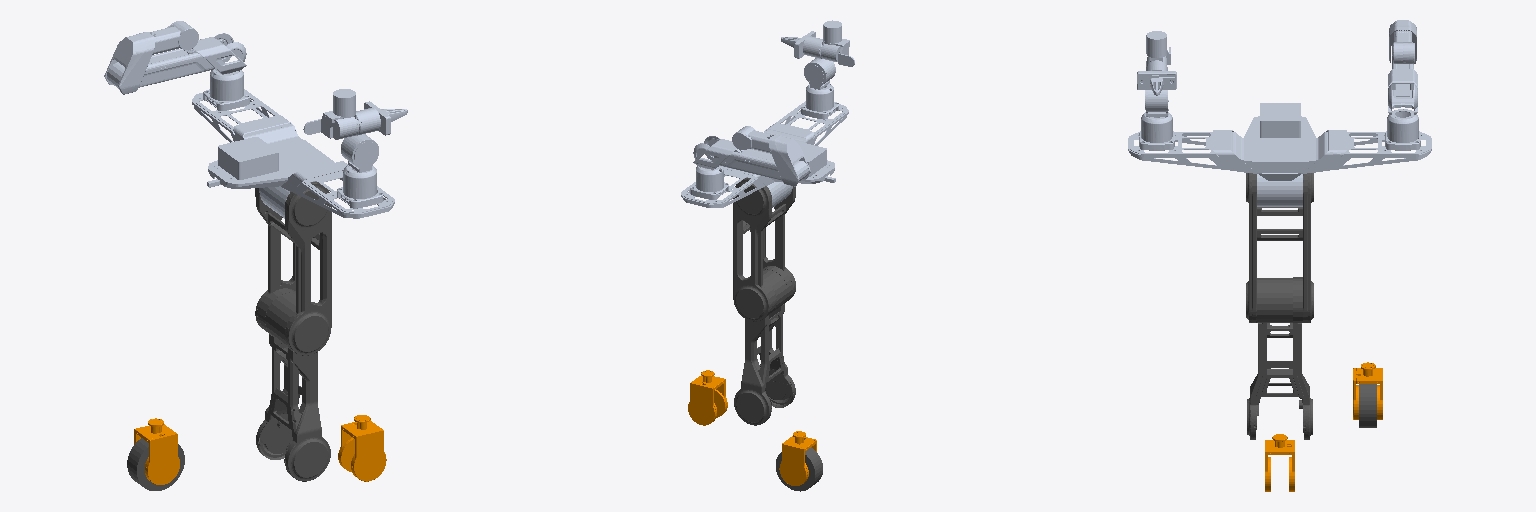
--- Render facts (derived) ---
Views: 3 orthographic renders of the robot side by side, from view 1: azimuth 30°, elevation 25°; view 2: azimuth 150°, elevation 25°; view 3: azimuth 270°, elevation 25°.
Model mmp_revB_invconfig_upright_a1x with 33 links and 32 joints (18 revolute, 4 continuous, 6 prismatic, 4 fixed), rooted at root, posed all joints at 0.
Links seen in each view (by area): view 1: torso_link3, torso_link1, torso_link2, left_arm_link2, left_arm_link3, steer_motor_link1, steer_motor_link2, right_arm_base_link, left_arm_base_link, right_arm_link4, wheel_motor_link2, right_arm_link1 (+1 smaller); view 2: torso_link1, torso_link2, torso_link3, left_arm_link2, left_arm_link3, steer_motor_link1, steer_motor_link2, left_arm_base_link, right_arm_base_link, right_arm_link4, wheel_motor_link2, right_arm_link1 (+1 smaller); view 3: torso_link3, torso_link1, torso_link2, left_arm_link2, left_arm_base_link, right_arm_base_link, left_arm_link3, steer_motor_link2, steer_motor_link1, wheel_motor_link2, right_gripper_link, right_arm_link4 (+1 smaller).
Link boxes in pixels (<box>): torso_link3: <box>192,89,394,218</box>; torso_link1: <box>256,288,330,481</box>; torso_link2: <box>255,182,331,355</box>; left_arm_link2: <box>107,33,246,88</box>; left_arm_link3: <box>104,21,198,94</box>; steer_motor_link1: <box>338,415,386,481</box>; steer_motor_link2: <box>134,418,179,484</box>; right_arm_base_link: <box>337,165,383,208</box>; left_arm_base_link: <box>203,69,249,110</box>; right_arm_link4: <box>303,89,355,138</box>; wheel_motor_link2: <box>127,438,184,490</box>; right_arm_link1: <box>341,134,378,172</box>; torso_link1: <box>734,266,795,425</box>; torso_link2: <box>733,178,795,321</box>; torso_link3: <box>681,101,848,207</box>; left_arm_link2: <box>693,136,808,180</box>; left_arm_link3: <box>732,126,810,186</box>; steer_motor_link1: <box>688,370,727,425</box>; steer_motor_link2: <box>779,431,816,485</box>; left_arm_base_link: <box>690,166,728,199</box>; right_arm_base_link: <box>801,83,838,119</box>; right_arm_link4: <box>823,20,854,66</box>; wheel_motor_link2: <box>776,447,822,491</box>; right_arm_link1: <box>804,58,835,89</box>; torso_link3: <box>1128,103,1431,206</box>; torso_link1: <box>1247,277,1312,439</box>; torso_link2: <box>1246,173,1313,322</box>; left_arm_link2: <box>1388,45,1417,114</box>; left_arm_base_link: <box>1385,109,1420,150</box>; right_arm_base_link: <box>1139,112,1174,150</box>; left_arm_link3: <box>1389,20,1416,63</box>; steer_motor_link2: <box>1353,362,1382,419</box>; steer_motor_link1: <box>1265,434,1294,491</box>; wheel_motor_link2: <box>1359,384,1376,427</box>; right_gripper_link: <box>1137,60,1176,89</box>; right_arm_link4: <box>1146,31,1170,64</box>.
Size in the robot's own frame: 1.16 by 1.65 by 2.55 metres.
Meshes: 30 distinct files referenced, 17 mesh visuals loaded (17 binary STL); not drawn: 13 (reference not matched to a file when rendering).

robot.urdf — mmp_revB_invconfig_upright_a1x:
<?xml version='1.0' encoding='utf-8'?>
<robot name="mmp_revB_invconfig_upright_a1x">
  <link name="root">
    <inertial>
      <mass value="0.0" />
      <inertia ixx="0.0" ixy="0.0" ixz="0.0" iyy="0.0" iyz="0.0" izz="0.0" />
    </inertial>
  </link>
  <link name="root_arm_1_link_1">
    <inertial>
      <mass value="0.0" />
      <inertia ixx="0.0" ixy="0.0" ixz="0.0" iyy="0.0" iyz="0.0" izz="0.0" />
    </inertial>
  </link>
  <link name="root_arm_1_link_2">
    <inertial>
      <mass value="0.0" />
      <inertia ixx="0.0" ixy="0.0" ixz="0.0" iyy="0.0" iyz="0.0" izz="0.0" />
    </inertial>
  </link>
  <joint name="root_x_axis_joint" type="prismatic">
    <parent link="root" />
    <child link="root_arm_1_link_1" />
    <axis xyz="1 0 0" />
    <limit effort="100" lower="-20" upper="20" velocity="0.50" />
    <dynamics damping="10.0" friction="10" />
  </joint>
  <joint name="root_y_axis_joint" type="prismatic">
    <parent link="root_arm_1_link_1" />
    <child link="root_arm_1_link_2" />
    <axis xyz="0 1 0" />
    <limit effort="100" lower="-20" upper="20" velocity="0.50" />
    <dynamics damping="10.0" friction="10" />
  </joint>
  <joint name="root_z_rotation_joint" type="continuous">
    <parent link="root_arm_1_link_2" />
    <child link="base_link" />
    <axis xyz="0 0 1" />
    <dynamics damping="10.0" friction="1" />
  </joint>
  <link name="base_link">
    <inertial>
      <origin xyz="0.0718033657159837 -0.0016279349766449 0.128750850965126" rpy="0 0 0" />
      <mass value="200.912" />
      <inertia ixx="6.111778781069088" ixy="0.0022436926826006434" ixz="-0.2515001528932861" iyy="4.865149515368128" iyz="-0.015832284749099073" izz="9.31900475153216" />
    </inertial>
    <visual>
      <origin xyz="0 0 0" rpy="0 0 0" />
      <geometry>
        <mesh filename="../meshes/base_link.STL" scale="2.0 2.0 2.0" />
      </geometry>
      <material name="">
        <color rgba="0.294117647058824 0.294117647058824 0.294117647058824 1" />
      </material>
    </visual>
    <collision>
      <origin xyz="0 0 0" rpy="0 0 0" />
      <geometry>
        <mesh filename="../meshes/base_link.STL" scale="2.0 2.0 2.0" />
      </geometry>
    </collision>
  </link>
  <link name="steer_motor_link1">
    <inertial>
      <origin xyz="-1.76196610579549E-07 -7.75116053202478E-05 -0.0852489956386505" rpy="0 0 0" />
      <mass value="12.0" />
      <inertia ixx="0.010837044817818848" ixy="1.9654322853365248e-07" ixz="2.113804565841056e-07" iyy="0.01612483045920157" iyz="1.153651931949792e-06" izz="0.006767575949965088" />
    </inertial>
    <visual>
      <origin xyz="0 0 0" rpy="0 0 0" />
      <geometry>
        <mesh filename="../meshes/steer_motor_link1.STL" scale="2.0 2.0 2.0" />
      </geometry>
      <material name="">
        <color rgba="1 0.6 0 1" />
      </material>
    </visual>
    <collision>
      <origin xyz="0 0 0" rpy="0 0 0" />
      <geometry>
        <mesh filename="../meshes/steer_motor_link1.STL" scale="2.0 2.0 2.0" />
      </geometry>
    </collision>
  </link>
  <joint name="steer_motor_joint1" type="revolute">
    <origin xyz="0.58366 -0.0029794 0.3633" rpy="0 0 0" />
    <parent link="base_link" />
    <child link="steer_motor_link1" />
    <axis xyz="0 0 1" />
    <limit lower="-3.1416" upper="3.1416" effort="20" velocity="20" />
  </joint>
  <link name="wheel_motor_link1">
    <inertial>
      <origin xyz="0 -9.99250577455509E-13 -2.34534613952064E-15" rpy="0 0 0" />
      <mass value="12.0" />
      <inertia ixx="0.03350479913728512" ixy="6.469958738282752e-17" ixz="-2.7755575615624127e-18" iyy="0.05792996322254656" iyz="1.1332033286056512e-15" izz="0.03350479913728512" />
    </inertial>
    <visual>
      <origin xyz="0 0 0" rpy="0 0 0" />
      <geometry>
        <mesh filename="../meshes/wheel_motor_link1.STL" scale="2.0 2.0 2.0" />
      </geometry>
      <material name="">
        <color rgba="0.4 0.4 0.4 1" />
      </material>
    </visual>
    <collision>
      <origin xyz="0 0 0" rpy="0 0 0" />
      <geometry>
        <mesh filename="../meshes/wheel_motor_link1.STL" scale="2.0 2.0 2.0" />
      </geometry>
    </collision>
  </link>
  <joint name="wheel_motor_joint1" type="continuous">
    <origin xyz="0.0 0.0 -0.2233" rpy="0 0 0" />
    <parent link="steer_motor_link1" />
    <child link="wheel_motor_link1" />
    <axis xyz="0 1 0" />
  </joint>
  <link name="steer_motor_link2">
    <inertial>
      <origin xyz="1.76196610607304E-07 7.75116053202962E-05 -0.0852489956386505" rpy="0 0 0" />
      <mass value="12.0" />
      <inertia ixx="0.010837044817818848" ixy="1.965432285338528e-07" ixz="-2.11380456583952e-07" iyy="0.01612483045920157" iyz="-1.1536519319500767e-06" izz="0.006767575949965056" />
    </inertial>
    <visual>
      <origin xyz="0 0 0" rpy="0 0 0" />
      <geometry>
        <mesh filename="../meshes/steer_motor_link2.STL" scale="2.0 2.0 2.0" />
      </geometry>
      <material name="">
        <color rgba="1 0.6 0 1" />
      </material>
    </visual>
    <collision>
      <origin xyz="0 0 0" rpy="0 0 0" />
      <geometry>
        <mesh filename="../meshes/steer_motor_link2.STL" scale="2.0 2.0 2.0" />
      </geometry>
    </collision>
  </link>
  <joint name="steer_motor_joint2" type="revolute">
    <origin xyz="-0.33634 0.47702 0.3633" rpy="0 0 0" />
    <parent link="base_link" />
    <child link="steer_motor_link2" />
    <axis xyz="0 0 1" />
    <limit lower="-3.1416" upper="3.1416" effort="20" velocity="20" />
  </joint>
  <link name="wheel_motor_link2">
    <inertial>
      <origin xyz="2.77555756156289E-17 -1.94289029309402E-16 -2.34621350125863E-15" rpy="0 0 0" />
      <mass value="12.0" />
      <inertia ixx="0.03350479913728512" ixy="6.435264268763232e-17" ixz="-2.7755575615624127e-18" iyy="0.05792996322254656" iyz="1.1330974494872448e-15" izz="0.03350479913728512" />
    </inertial>
    <visual>
      <origin xyz="0 0 0" rpy="0 0 0" />
      <geometry>
        <mesh filename="../meshes/wheel_motor_link2.STL" scale="2.0 2.0 2.0" />
      </geometry>
      <material name="">
        <color rgba="0.4 0.4 0.4 1" />
      </material>
    </visual>
    <collision>
      <origin xyz="0 0 0" rpy="0 0 0" />
      <geometry>
        <mesh filename="../meshes/wheel_motor_link2.STL" scale="2.0 2.0 2.0" />
      </geometry>
    </collision>
  </link>
  <joint name="wheel_motor_joint2" type="continuous">
    <origin xyz="0.0 0.0 -0.2233" rpy="0 0 0" />
    <parent link="steer_motor_link2" />
    <child link="wheel_motor_link2" />
    <axis xyz="0 1 0" />
  </joint>
  <link name="steer_motor_link3">
    <inertial>
      <origin xyz="1.76196610579549E-07 7.75116053202407E-05 -0.0852489956386505" rpy="0 0 0" />
      <mass value="12.0" />
      <inertia ixx="0.010837044817818848" ixy="1.965432285335539e-07" ixz="-2.113804565840253e-07" iyy="0.01612483045920157" iyz="-1.1536519319501216e-06" izz="0.006767575949965056" />
    </inertial>
    <visual>
      <origin xyz="0 0 0" rpy="0 0 0" />
      <geometry>
        <mesh filename="../meshes/steer_motor_link3.STL" scale="2.0 2.0 2.0" />
      </geometry>
      <material name="">
        <color rgba="1 0.6 0 1" />
      </material>
    </visual>
    <collision>
      <origin xyz="0 0 0" rpy="0 0 0" />
      <geometry>
        <mesh filename="../meshes/steer_motor_link3.STL" scale="2.0 2.0 2.0" />
      </geometry>
    </collision>
  </link>
  <joint name="steer_motor_joint3" type="revolute">
    <origin xyz="-0.33634 -0.48298 0.3633" rpy="0 0 0" />
    <parent link="base_link" />
    <child link="steer_motor_link3" />
    <axis xyz="0 0 1" />
    <limit lower="-3.1416" upper="3.1416" effort="20" velocity="20" />
  </joint>
  <link name="wheel_motor_link3">
    <inertial>
      <origin xyz="0 -1.94289029309402E-16 -2.34274405430668E-15" rpy="0 0 0" />
      <mass value="12.0" />
      <inertia ixx="0.03350479913728512" ixy="6.40056979924368e-17" ixz="-2.775557561562416e-18" iyy="0.05792996322254656" iyz="1.1323783185150271e-15" izz="0.03350479913728512" />
    </inertial>
    <visual>
      <origin xyz="0 0 0" rpy="0 0 0" />
      <geometry>
        <mesh filename="../meshes/wheel_motor_link3.STL" scale="2.0 2.0 2.0" />
      </geometry>
      <material name="">
        <color rgba="0.4 0.4 0.4 1" />
      </material>
    </visual>
    <collision>
      <origin xyz="0 0 0" rpy="0 0 0" />
      <geometry>
        <mesh filename="../meshes/wheel_motor_link3.STL" scale="2.0 2.0 2.0" />
      </geometry>
    </collision>
  </link>
  <joint name="wheel_motor_joint3" type="continuous">
    <origin xyz="0.0 0.0 -0.2233" rpy="0 0 0" />
    <parent link="steer_motor_link3" />
    <child link="wheel_motor_link3" />
    <axis xyz="0 1 0" />
  </joint>
  <link name="torso_link1">
    <inertial>
      <origin xyz="0.00321196798398059 0.0116566745256909 0.100697975240297" rpy="0 0 0" />
      <mass value="38.456" />
      <inertia ixx="0.09936367805582497" ixy="0.0001246257756638288" ixz="-0.003584953952407616" iyy="0.10459800313051648" iyz="0.0013276243088330751" izz="0.011359807588411649" />
    </inertial>
    <visual>
      <origin xyz="0 0 0" rpy="0 0 0" />
      <geometry>
        <mesh filename="../meshes/torso_link1.STL" scale="2.0 2.0 2.0" />
      </geometry>
      <material name="">
        <color rgba="0.4 0.4 0.4 1" />
      </material>
    </visual>
    <collision>
      <origin xyz="0 0 0" rpy="0 0 0" />
      <geometry>
        <mesh filename="../meshes/torso_link1.STL" scale="2.0 2.0 2.0" />
      </geometry>
    </collision>
  </link>
  <joint name="torso_joint1" type="revolute">
    <origin xyz="0.183662 0.00072066 0.2973" rpy="0 0 0" />
    <parent link="base_link" />
    <child link="torso_link1" />
    <axis xyz="0 1 0" />
    <limit lower="-1.5708" upper="0.436333" effort="100" velocity="2.5" />
  </joint>
  <link name="torso_link2">
    <inertial>
      <origin xyz="0.00627300956924463 0.00536087570300695 0.184118796618929" rpy="0 0 0" />
      <mass value="22.232" />
      <inertia ixx="0.9905304381048224" ixy="-1.785470994821779e-05" ixz="0.009534469643672033" iyy="1.040544564477056" iyz="2.8803091525264545e-05" izz="0.05928206866941728" />
    </inertial>
    <visual>
      <origin xyz="0 0 0" rpy="0 0 0" />
      <geometry>
        <mesh filename="../meshes/torso_link2.STL" scale="2.0 2.0 2.0" />
      </geometry>
      <material name="">
        <color rgba="0.4 0.4 0.4 1" />
      </material>
    </visual>
    <collision>
      <origin xyz="0 0 0" rpy="0 0 0" />
      <geometry>
        <mesh filename="../meshes/torso_link2.STL" scale="2.0 2.0 2.0" />
      </geometry>
    </collision>
  </link>
  <joint name="torso_joint2" type="revolute">
    <origin xyz="0.0 -0.0037 0.7" rpy="0 0 0" />
    <parent link="torso_link1" />
    <child link="torso_link2" />
    <axis xyz="0 1 0" />
    <limit lower="-2.705262" upper="2.705262" effort="100" velocity="2.5" />
  </joint>
  <link name="torso_link3">
    <inertial>
      <origin xyz="-0.0416383086406449 0.000484599582373232 0.051111008977659" rpy="0 0 0" />
      <mass value="43.464" />
      <inertia ixx="0.20711019200351297" ixy="-1.4446745686976671e-05" ixz="-0.0004117998314954368" iyy="0.1735414621099936" iyz="-5.36035185228016e-06" izz="0.2704198196312893" />
    </inertial>
    <visual>
      <origin xyz="0 0 0" rpy="0 0 0" />
      <geometry>
        <mesh filename="../meshes/torso_link3.STL" scale="2.0 2.0 2.0" />
      </geometry>
      <material name="">
        <color rgba="0.807843137254902 0.843137254901961 0.905882352941176 1" />
      </material>
    </visual>
    <collision>
      <origin xyz="0 0 0" rpy="0 0 0" />
      <geometry>
        <mesh filename="../meshes/torso_link3.STL" scale="2.0 2.0 2.0" />
      </geometry>
    </collision>
  </link>
  <joint name="torso_joint3" type="revolute">
    <origin xyz="0.00019297 0.0 0.7" rpy="0 0 0" />
    <parent link="torso_link2" />
    <child link="torso_link3" />
    <axis xyz="0 -1 0" />
    <limit lower="-1.5708" upper="1.5708" effort="100" velocity="2.5" />
  </joint>
  <link name="left_arm_base_link">
    <inertial>
      <origin xyz="0.0030333225964161 -0.000695374211760413 0.0297999913998699" rpy="0 0 0" />
      <mass value="6.288" />
      <inertia ixx="0.006708446544124192" ixy="4.493705854582784e-05" ixz="0.00018198069976810977" iyy="0.006393507442944128" iyz="-0.00011703211657792032" izz="0.00759871639556512" />
    </inertial>
    <visual>
      <origin xyz="0 0 0" rpy="0 0 0" />
      <geometry>
        <mesh filename="../meshes/left_arm_base_link.STL" scale="2.0 2.0 2.0" />
      </geometry>
      <material name="">
        <color rgba="0.807843137254902 0.843137254901961 0.905882352941176 1" />
      </material>
    </visual>
    <collision>
      <origin xyz="0 0 0" rpy="0 0 0" />
      <geometry>
        <mesh filename="../meshes/left_arm_base_link.STL" scale="2.0 2.0 2.0" />
      </geometry>
    </collision>
  </link>
  <joint name="left_arm_base_joint" type="fixed">
    <origin xyz="0.0 0.67 0.24612" rpy="0 0 0" />
    <parent link="torso_link3" />
    <child link="left_arm_base_link" />
    <axis xyz="0 0 0" />
  </joint>
  <link name="left_arm_link1">
    <inertial>
      <origin xyz="3.42079032877862E-07 -0.00198629091504759 0.0468866154783616" rpy="0 0 0" />
      <mass value="6.712" />
      <inertia ixx="0.007172646985134368" ixy="-1.5290483058093823e-08" ixz="2.6987848147558595e-07" iyy="0.008633899613476544" iyz="3.00270882674095e-07" izz="0.00699925991077392" />
    </inertial>
    <visual>
      <origin xyz="0 0 0" rpy="0 0 0" />
      <geometry>
        <mesh filename="../meshes/left_arm_link1.STL" scale="2.0 2.0 2.0" />
      </geometry>
      <material name="">
        <color rgba="0.807843137254902 0.843137254901961 0.905882352941176 1" />
      </material>
    </visual>
    <collision>
      <origin xyz="0 0 0" rpy="0 0 0" />
      <geometry>
        <mesh filename="../meshes/left_arm_link1.STL" scale="2.0 2.0 2.0" />
      </geometry>
    </collision>
  </link>
  <joint name="left_arm_joint1" type="revolute">
    <origin xyz="0.0 0.0 0.1721" rpy="0 0 0" />
    <parent link="left_arm_base_link" />
    <child link="left_arm_link1" />
    <axis xyz="0 0 1" />
    <limit lower="-2.8798" upper="2.8798" effort="27" velocity="10.472" />
  </joint>
  <link name="left_arm_link2">
    <inertial>
      <origin xyz="-0.122675172740935 -0.0295384346078661 0.00365030178710546" rpy="0 0 0" />
      <mass value="8.72" />
      <inertia ixx="0.012423741773241471" ixy="-0.0006964447436020768" ixz="0.0002852564904124627" iyy="0.08788399165872415" iyz="3.831944734772704e-05" izz="0.08896385474841792" />
    </inertial>
    <visual>
      <origin xyz="0 0 0" rpy="0 0 0" />
      <geometry>
        <mesh filename="../meshes/left_arm_link2.STL" scale="2.0 2.0 2.0" />
      </geometry>
      <material name="">
        <color rgba="0.807843137254902 0.843137254901961 0.905882352941176 1" />
      </material>
    </visual>
    <collision>
      <origin xyz="0 0 0" rpy="0 0 0" />
      <geometry>
        <mesh filename="../meshes/left_arm_link2.STL" scale="2.0 2.0 2.0" />
      </geometry>
    </collision>
  </link>
  <joint name="left_arm_joint2" type="revolute">
    <origin xyz="0.0 0.0615 0.0985" rpy="0 0 0" />
    <parent link="left_arm_link1" />
    <child link="left_arm_link2" />
    <axis xyz="0 1 0" />
    <limit lower="0" upper="3.1416" effort="50" velocity="12.5664" />
  </joint>
  <link name="left_arm_link3">
    <inertial>
      <origin xyz="0.0566624793223791 -0.0291316466078999 0.0568018844686509" rpy="0 0 0" />
      <mass value="5.912" />
      <inertia ixx="0.008253041448206048" ixy="0.00032862544432152" ixz="-0.004214199027295456" iyy="0.02148327146382192" iyz="-0.00025708241097570177" izz="0.017601651553803808" />
    </inertial>
    <visual>
      <origin xyz="0 0 0" rpy="0 0 0" />
      <geometry>
        <mesh filename="../meshes/left_arm_link3.STL" scale="2.0 2.0 2.0" />
      </geometry>
      <material name="">
        <color rgba="0.807843137254902 0.843137254901961 0.905882352941176 1" />
      </material>
    </visual>
    <collision>
      <origin xyz="0 0 0" rpy="0 0 0" />
      <geometry>
        <mesh filename="../meshes/left_arm_link3.STL" scale="2.0 2.0 2.0" />
      </geometry>
    </collision>
  </link>
  <joint name="left_arm_joint3" type="revolute">
    <origin xyz="-0.6 0.00050008 0.0" rpy="0 0 0" />
    <parent link="left_arm_link2" />
    <child link="left_arm_link3" />
    <axis xyz="0 1 0" />
    <limit lower="-3.3161" upper="0" effort="27" velocity="10.472" />
  </joint>
  <link name="left_arm_link4">
    <inertial>
      <origin xyz="0.0699840030193581 -0.0287504697364447 0.0541968318197228" rpy="0 0 0" />
      <mass value="3.352" />
      <inertia ixx="0.0021184220675666303" ixy="-2.996340767010208e-07" ixz="-1.3628049800193823e-07" iyy="0.0021737831662187873" iyz="2.4887260287675745e-05" izz="0.0021416494329876386" />
    </inertial>
    <visual>
      <origin xyz="0 0 0" rpy="0 0 0" />
      <geometry>
        <mesh filename="../meshes/left_arm_link4.STL" scale="2.0 2.0 2.0" />
      </geometry>
      <material name="">
        <color rgba="0.807843137254902 0.843137254901961 0.905882352941176 1" />
      </material>
    </visual>
    <collision>
      <origin xyz="0 0 0" rpy="0 0 0" />
      <geometry>
        <mesh filename="../meshes/left_arm_link4.STL" scale="2.0 2.0 2.0" />
      </geometry>
    </collision>
  </link>
  <joint name="left_arm_joint4" type="revolute">
    <origin xyz="0.3494 0.00099478 0.15097" rpy="0 0 0" />
    <parent link="left_arm_link3" />
    <child link="left_arm_link4" />
    <axis xyz="0 1 0" />
    <limit lower="-1.5708" upper="1.5708" effort="14" velocity="32.9867" />
  </joint>
  <link name="left_arm_link5">
    <inertial>
      <origin xyz="-0.000803198983898074 -2.29028914278118E-07 -0.0402656141956459" rpy="0 0 0" />
      <mass value="0.432" />
      <inertia ixx="0.001857347164035504" ixy="-6.229051663446688e-12" ixz="3.571643021657856e-13" iyy="0.0018444721849494303" iyz="-1.1397883235898336e-09" izz="0.0018193868150818177" />
    </inertial>
    <visual>
      <origin xyz="0 0 0" rpy="0 0 0" />
      <geometry>
        <mesh filename="../meshes/left_arm_link5.STL" scale="2.0 2.0 2.0" />
      </geometry>
      <material name="">
        <color rgba="0.807843137254902 0.843137254901961 0.905882352941176 1" />
      </material>
    </visual>
    <collision>
      <origin xyz="0 0 0" rpy="0 0 0" />
      <geometry>
        <mesh filename="../meshes/left_arm_link5.STL" scale="2.0 2.0 2.0" />
      </geometry>
    </collision>
  </link>
  <joint name="left_arm_joint5" type="revolute">
    <origin xyz="0.16 -0.062996 0.081" rpy="0 0 0" />
    <parent link="left_arm_link4" />
    <child link="left_arm_link5" />
    <axis xyz="0 0 1" />
    <limit lower="-1.5708" upper="1.5708" effort="14" velocity="32.9867" />
  </joint>
  <link name="left_arm_link6">
    <inertial>
      <origin xyz="0.00709944426961403 -8.90673146347609E-10 -3.82632235882419E-05" rpy="0 0 0" />
      <mass value="0.248" />
      <inertia ixx="0.00011024877685885344" ixy="-6.421001503665696e-12" ixz="-4.036383206065888e-08" iyy="5.842328982055104e-05" iyz="-1.265166973511536e-13" izz="5.815391698480832e-05" />
    </inertial>
    <visual>
      <origin xyz="0 0 0" rpy="0 0 0" />
      <geometry>
        <mesh filename="../meshes/left_arm_link6.STL" scale="2.0 2.0 2.0" />
      </geometry>
      <material name="">
        <color rgba="0.807843137254902 0.843137254901961 0.905882352941176 1" />
      </material>
    </visual>
    <collision>
      <origin xyz="0 0 0" rpy="0 0 0" />
      <geometry>
        <mesh filename="../meshes/left_arm_link6.STL" scale="2.0 2.0 2.0" />
      </geometry>
    </collision>
  </link>
  <joint name="left_arm_joint6" type="revolute">
    <origin xyz="0.045006 0.0 -0.081" rpy="0 0 0" />
    <parent link="left_arm_link5" />
    <child link="left_arm_link6" />
    <axis xyz="1 0 0" />
    <limit lower="-2.8798" upper="2.8798" effort="14" velocity="32.9867" />
  </joint>
  <link name="left_gripper_link">
    <inertial>
      <origin xyz="-0.0311072323899603 1.17979991887118E-08 7.93394685505433E-08" rpy="0 0 0" />
      <mass value="4.832" />
      <inertia ixx="0.005628209414065248" ixy="-1.9392846427232258e-09" ixz="1.698058897997968e-08" iyy="0.0031564141046442912" iyz="-2.6197974159868543e-06" izz="0.005283880978560928" />
    </inertial>
    <visual>
      <origin xyz="0 0 0" rpy="0 0 0" />
      <geometry>
        <mesh filename="../meshes/left_gripper_link.STL" scale="2.0 2.0 2.0" />
      </geometry>
      <material name="">
        <color rgba="0.807843137254902 0.843137254901961 0.905882352941176 1" />
      </material>
    </visual>
    <collision>
      <origin xyz="0 0 0" rpy="0 0 0" />
      <geometry>
        <mesh filename="../meshes/left_gripper_link.STL" scale="2.0 2.0 2.0" />
      </geometry>
    </collision>
  </link>
  <joint name="left_gripper_joint" type="fixed">
    <origin xyz="0.1633 0.0 0.0" rpy="0 0 0" />
    <parent link="left_arm_link6" />
    <child link="left_gripper_link" />
    <axis xyz="0 0 0" />
  </joint>
  <link name="left_gripper_finger_link1">
    <inertial>
      <origin xyz="-0.0195895895552112 -0.0151136845490034 0.00542254359093075" rpy="0 0 0" />
      <mass value="0.16157213848276" />
      <inertia ixx="7.698219471270688e-05" ixy="1.276750707489536e-05" ixz="1.6388888389876513e-06" iyy="0.00018274537545840512" iyz="1.9822972864267616e-06" izz="0.00020751429885771457" />
    </inertial>
    <visual>
      <origin xyz="0 0 0" rpy="0 0 0" />
      <geometry>
        <mesh filename="../meshes/left_gripper_finger_link1.STL" scale="2.0 2.0 2.0" />
      </geometry>
      <material name="">
        <color rgba="0.807843137254902 0.843137254901961 0.905882352941176 1" />
      </material>
    </visual>
    <collision>
      <origin xyz="0 0 0" rpy="0 0 0" />
      <geometry>
        <mesh filename="../meshes/left_gripper_finger_link1.STL" scale="2.0 2.0 2.0" />
      </geometry>
    </collision>
  </link>
  <joint name="left_gripper_finger_joint1" type="prismatic">
    <origin xyz="0.07378 0.026906 0.00024118" rpy="0 0 0" />
    <parent link="left_gripper_link" />
    <child link="left_gripper_finger_link1" />
    <axis xyz="0 1 0" />
    <limit lower="0" upper="0.05" effort="100" velocity="0.25" />
  </joint>
  <link name="left_gripper_finger_link2">
    <inertial>
      <origin xyz="-0.0195895857999098 0.0151136893508115 -0.00542254357246619" rpy="0 0 0" />
      <mass value="0.1615721393159928" />
      <inertia ixx="7.698218884853984e-05" ixy="-1.2767481114467969e-05" ixz="-1.6388885858367393e-06" iyy="0.00018274538290877728" iyz="1.9822974496209154e-06" izz="0.00020751429992775104" />
    </inertial>
    <visual>
      <origin xyz="0 0 0" rpy="0 0 0" />
      <geometry>
        <mesh filename="../meshes/left_gripper_finger_link2.STL" scale="2.0 2.0 2.0" />
      </geometry>
      <material name="">
        <color rgba="0.807843137254902 0.843137254901961 0.905882352941176 1" />
      </material>
    </visual>
    <collision>
      <origin xyz="0 0 0" rpy="0 0 0" />
      <geometry>
        <mesh filename="../meshes/left_gripper_finger_link2.STL" scale="2.0 2.0 2.0" />
      </geometry>
    </collision>
  </link>
  <joint name="left_gripper_finger_joint2" type="prismatic">
    <origin xyz="0.07378 -0.026906 -0.00024118" rpy="0 0 0" />
    <parent link="left_gripper_link" />
    <child link="left_gripper_finger_link2" />
    <axis xyz="0 1 0" />
    <limit lower="-0.05" upper="0" effort="100" velocity="0.25" />
  </joint>
  <link name="right_arm_base_link">
    <inertial>
      <origin xyz="0.00303332259650781 -0.000695374211141575 0.0297999913998387" rpy="0 0 0" />
      <mass value="6.288" />
      <inertia ixx="0.006708446544116032" ixy="4.493705860944928e-05" ixz="0.0001819806997869664" iyy="0.006393507442966496" iyz="-0.0001170321165402464" izz="0.0075987163955752" />
    </inertial>
    <visual>
      <origin xyz="0 0 0" rpy="0 0 0" />
      <geometry>
        <mesh filename="../meshes/right_arm_base_link.STL" scale="2.0 2.0 2.0" />
      </geometry>
      <material name="">
        <color rgba="0.807843137254902 0.843137254901961 0.905882352941176 1" />
      </material>
    </visual>
    <collision>
      <origin xyz="0 0 0" rpy="0 0 0" />
      <geometry>
        <mesh filename="../meshes/right_arm_base_link.STL" scale="2.0 2.0 2.0" />
      </geometry>
    </collision>
  </link>
  <joint name="right_arm_base_joint" type="fixed">
    <origin xyz="0.0 -0.67 0.24612" rpy="0 0 0" />
    <parent link="torso_link3" />
    <child link="right_arm_base_link" />
    <axis xyz="0 0 0" />
  </joint>
  <link name="right_arm_link1">
    <inertial>
      <origin xyz="3.42079032877862E-07 -0.00198629091504759 0.0468866154783616" rpy="0 0 0" />
      <mass value="6.712" />
      <inertia ixx="0.007172646985134368" ixy="-1.5290483058093823e-08" ixz="2.6987848147558595e-07" iyy="0.008633899613476544" iyz="3.00270882674095e-07" izz="0.00699925991077392" />
    </inertial>
    <visual>
      <origin xyz="0 0 0" rpy="0 0 0" />
      <geometry>
        <mesh filename="../meshes/right_arm_link1.STL" scale="2.0 2.0 2.0" />
      </geometry>
      <material name="">
        <color rgba="0.807843137254902 0.843137254901961 0.905882352941176 1" />
      </material>
    </visual>
    <collision>
      <origin xyz="0 0 0" rpy="0 0 0" />
      <geometry>
        <mesh filename="../meshes/right_arm_link1.STL" scale="2.0 2.0 2.0" />
      </geometry>
    </collision>
  </link>
  <joint name="right_arm_joint1" type="revolute">
    <origin xyz="0.0 0.0 0.1721" rpy="0 0 0" />
    <parent link="right_arm_base_link" />
    <child link="right_arm_link1" />
    <axis xyz="0 0 1" />
    <limit lower="-2.8798" upper="2.8798" effort="27" velocity="10.472" />
  </joint>
  <link name="right_arm_link2">
    <inertial>
      <origin xyz="-0.122675172740935 -0.0295384346078661 0.00365030178710546" rpy="0 0 0" />
      <mass value="8.72" />
      <inertia ixx="0.012423741773241471" ixy="-0.0006964447436020768" ixz="0.0002852564904124627" iyy="0.08788399165872415" iyz="3.831944734772704e-05" izz="0.08896385474841792" />
    </inertial>
    <visual>
      <origin xyz="0 0 0" rpy="0 0 0" />
      <geometry>
        <mesh filename="../meshes/right_arm_link2.STL" scale="2.0 2.0 2.0" />
      </geometry>
      <material name="">
        <color rgba="0.807843137254902 0.843137254901961 0.905882352941176 1" />
      </material>
    </visual>
    <collision>
      <origin xyz="0 0 0" rpy="0 0 0" />
      <geometry>
        <mesh filename="../meshes/right_arm_link2.STL" scale="2.0 2.0 2.0" />
      </geometry>
    </collision>
  </link>
  <joint name="right_arm_joint2" type="revolute">
    <origin xyz="0.0 0.0615 0.0985" rpy="0 0 0" />
    <parent link="right_arm_link1" />
    <child link="right_arm_link2" />
    <axis xyz="0 1 0" />
    <limit lower="0" upper="3.1416" effort="50" velocity="12.5664" />
  </joint>
  <link name="right_arm_link3">
    <inertial>
      <origin xyz="0.0566624793223791 -0.0291316466078999 0.0568018844686509" rpy="0 0 0" />
      <mass value="5.912" />
      <inertia ixx="0.008253041448206048" ixy="0.00032862544432152" ixz="-0.004214199027295456" iyy="0.02148327146382192" iyz="-0.00025708241097570177" izz="0.017601651553803808" />
    </inertial>
    <visual>
      <origin xyz="0 0 0" rpy="0 0 0" />
      <geometry>
        <mesh filename="../meshes/right_arm_link3.STL" scale="2.0 2.0 2.0" />
      </geometry>
      <material name="">
        <color rgba="0.807843137254902 0.843137254901961 0.905882352941176 1" />
      </material>
    </visual>
    <collision>
      <origin xyz="0 0 0" rpy="0 0 0" />
      <geometry>
        <mesh filename="../meshes/right_arm_link3.STL" scale="2.0 2.0 2.0" />
      </geometry>
    </collision>
  </link>
  <joint name="right_arm_joint3" type="revolute">
    <origin xyz="-0.6 0.00050008 0.0" rpy="0 0 0" />
    <parent link="right_arm_link2" />
    <child link="right_arm_link3" />
    <axis xyz="0 1 0" />
    <limit lower="-3.3161" upper="0" effort="27" velocity="10.472" />
  </joint>
  <link name="right_arm_link4">
    <inertial>
      <origin xyz="0.0699840030193581 -0.0287504697364447 0.0541968318197228" rpy="0 0 0" />
      <mass value="3.352" />
      <inertia ixx="0.0021184220675666303" ixy="-2.996340767010208e-07" ixz="-1.3628049800193823e-07" iyy="0.0021737831662187873" iyz="2.4887260287675745e-05" izz="0.0021416494329876386" />
    </inertial>
    <visual>
      <origin xyz="0 0 0" rpy="0 0 0" />
      <geometry>
        <mesh filename="../meshes/right_arm_link4.STL" scale="2.0 2.0 2.0" />
      </geometry>
      <material name="">
        <color rgba="0.807843137254902 0.843137254901961 0.905882352941176 1" />
      </material>
    </visual>
    <collision>
      <origin xyz="0 0 0" rpy="0 0 0" />
      <geometry>
        <mesh filename="../meshes/right_arm_link4.STL" scale="2.0 2.0 2.0" />
      </geometry>
    </collision>
  </link>
  <joint name="right_arm_joint4" type="revolute">
    <origin xyz="0.3494 0.00099478 0.15097" rpy="0 0 0" />
    <parent link="right_arm_link3" />
    <child link="right_arm_link4" />
    <axis xyz="0 1 0" />
    <limit lower="-1.5708" upper="1.5708" effort="14" velocity="32.9867" />
  </joint>
  <link name="right_arm_link5">
    <inertial>
      <origin xyz="-0.000803198983898074 -2.29028914278118E-07 -0.0402656141956459" rpy="0 0 0" />
      <mass value="0.432" />
      <inertia ixx="0.001857347164035504" ixy="-6.229051663446688e-12" ixz="3.571643021657856e-13" iyy="0.0018444721849494303" iyz="-1.1397883235898336e-09" izz="0.0018193868150818177" />
    </inertial>
    <visual>
      <origin xyz="0 0 0" rpy="0 0 0" />
      <geometry>
        <mesh filename="../meshes/right_arm_link5.STL" scale="2.0 2.0 2.0" />
      </geometry>
      <material name="">
        <color rgba="0.807843137254902 0.843137254901961 0.905882352941176 1" />
      </material>
    </visual>
    <collision>
      <origin xyz="0 0 0" rpy="0 0 0" />
      <geometry>
        <mesh filename="../meshes/right_arm_link5.STL" scale="2.0 2.0 2.0" />
      </geometry>
    </collision>
  </link>
  <joint name="right_arm_joint5" type="revolute">
    <origin xyz="0.16 -0.062996 0.081" rpy="0 0 0" />
    <parent link="right_arm_link4" />
    <child link="right_arm_link5" />
    <axis xyz="0 0 1" />
    <limit lower="-1.5708" upper="1.5708" effort="14" velocity="32.9867" />
  </joint>
  <link name="right_arm_link6">
    <inertial>
      <origin xyz="0.00709944426961403 -8.90673146347609E-10 -3.82632235882419E-05" rpy="0 0 0" />
      <mass value="0.248" />
      <inertia ixx="0.00011024877685885344" ixy="-6.421001503665696e-12" ixz="-4.036383206065888e-08" iyy="5.842328982055104e-05" iyz="-1.265166973511536e-13" izz="5.815391698480832e-05" />
    </inertial>
    <visual>
      <origin xyz="0 0 0" rpy="0 0 0" />
      <geometry>
        <mesh filename="../meshes/right_arm_link6.STL" scale="2.0 2.0 2.0" />
      </geometry>
      <material name="">
        <color rgba="0.807843137254902 0.843137254901961 0.905882352941176 1" />
      </material>
    </visual>
    <collision>
      <origin xyz="0 0 0" rpy="0 0 0" />
      <geometry>
        <mesh filename="../meshes/right_arm_link6.STL" scale="2.0 2.0 2.0" />
      </geometry>
    </collision>
  </link>
  <joint name="right_arm_joint6" type="revolute">
    <origin xyz="0.045006 0.0 -0.081" rpy="0 0 0" />
    <parent link="right_arm_link5" />
    <child link="right_arm_link6" />
    <axis xyz="1 0 0" />
    <limit lower="-2.8798" upper="2.8798" effort="14" velocity="32.9867" />
  </joint>
  <link name="right_gripper_link">
    <inertial>
      <origin xyz="-0.0311072323899603 1.17979991887118E-08 7.93394685505433E-08" rpy="0 0 0" />
      <mass value="4.832" />
      <inertia ixx="0.005628209414065248" ixy="-1.9392846427232258e-09" ixz="1.698058897997968e-08" iyy="0.0031564141046442912" iyz="-2.6197974159868543e-06" izz="0.005283880978560928" />
    </inertial>
    <visual>
      <origin xyz="0 0 0" rpy="0 0 0" />
      <geometry>
        <mesh filename="../meshes/right_gripper_link.STL" scale="2.0 2.0 2.0" />
      </geometry>
      <material name="">
        <color rgba="0.807843137254902 0.843137254901961 0.905882352941176 1" />
      </material>
    </visual>
    <collision>
      <origin xyz="0 0 0" rpy="0 0 0" />
      <geometry>
        <mesh filename="../meshes/right_gripper_link.STL" scale="2.0 2.0 2.0" />
      </geometry>
    </collision>
  </link>
  <joint name="right_gripper_joint" type="fixed">
    <origin xyz="0.1633 0.0 0.0" rpy="0 0 0" />
    <parent link="right_arm_link6" />
    <child link="right_gripper_link" />
    <axis xyz="0 0 0" />
  </joint>
  <link name="right_gripper_finger_link1">
    <inertial>
      <origin xyz="-0.0195895895552112 -0.0151136845490034 0.00542254359093075" rpy="0 0 0" />
      <mass value="0.16157213848276" />
      <inertia ixx="7.698219471270688e-05" ixy="1.276750707489536e-05" ixz="1.6388888389876513e-06" iyy="0.00018274537545840512" iyz="1.9822972864267616e-06" izz="0.00020751429885771457" />
    </inertial>
    <visual>
      <origin xyz="0 0 0" rpy="0 0 0" />
      <geometry>
        <mesh filename="../meshes/right_gripper_finger_link1.STL" scale="2.0 2.0 2.0" />
      </geometry>
      <material name="">
        <color rgba="0.807843137254902 0.843137254901961 0.905882352941176 1" />
      </material>
    </visual>
    <collision>
      <origin xyz="0 0 0" rpy="0 0 0" />
      <geometry>
        <mesh filename="../meshes/right_gripper_finger_link1.STL" scale="2.0 2.0 2.0" />
      </geometry>
    </collision>
  </link>
  <joint name="right_gripper_finger_joint1" type="prismatic">
    <origin xyz="0.07378 0.026906 0.00024118" rpy="0 0 0" />
    <parent link="right_gripper_link" />
    <child link="right_gripper_finger_link1" />
    <axis xyz="0 1 0" />
    <limit lower="0" upper="0.05" effort="100" velocity="0.25" />
  </joint>
  <link name="right_gripper_finger_link2">
    <inertial>
      <origin xyz="-0.0195895857999098 0.0151136893508115 -0.00542254357246619" rpy="0 0 0" />
      <mass value="0.1615721393159928" />
      <inertia ixx="7.698218884853984e-05" ixy="-1.2767481114467969e-05" ixz="-1.6388885858367393e-06" iyy="0.00018274538290877728" iyz="1.9822974496209154e-06" izz="0.00020751429992775104" />
    </inertial>
    <visual>
      <origin xyz="0 0 0" rpy="0 0 0" />
      <geometry>
        <mesh filename="../meshes/right_gripper_finger_link2.STL" scale="2.0 2.0 2.0" />
      </geometry>
      <material name="">
        <color rgba="0.807843137254902 0.843137254901961 0.905882352941176 1" />
      </material>
    </visual>
    <collision>
      <origin xyz="0 0 0" rpy="0 0 0" />
      <geometry>
        <mesh filename="../meshes/right_gripper_finger_link2.STL" scale="2.0 2.0 2.0" />
      </geometry>
    </collision>
  </link>
  <joint name="right_gripper_finger_joint2" type="prismatic">
    <origin xyz="0.07378 -0.026906 -0.00024118" rpy="0 0 0" />
    <parent link="right_gripper_link" />
    <child link="right_gripper_finger_link2" />
    <axis xyz="0 1 0" />
    <limit lower="-0.05" upper="0" effort="100" velocity="0.25" />
  </joint>
</robot>
